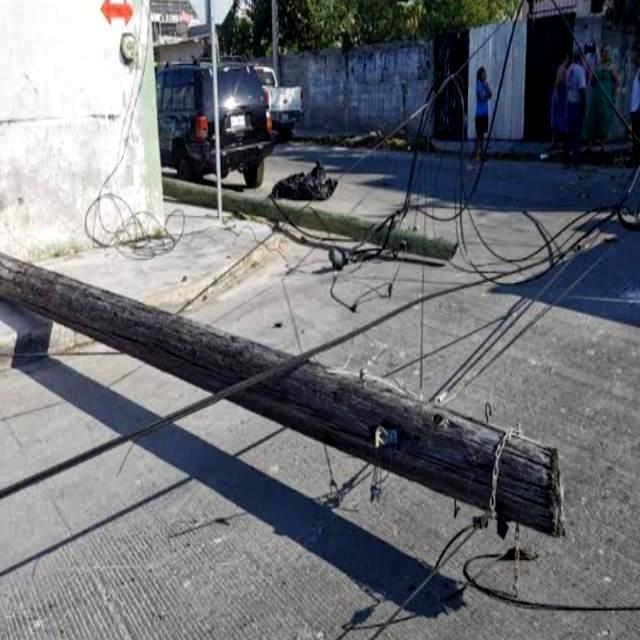Broken Pole: (0, 247, 570, 543), (163, 163, 466, 267)
